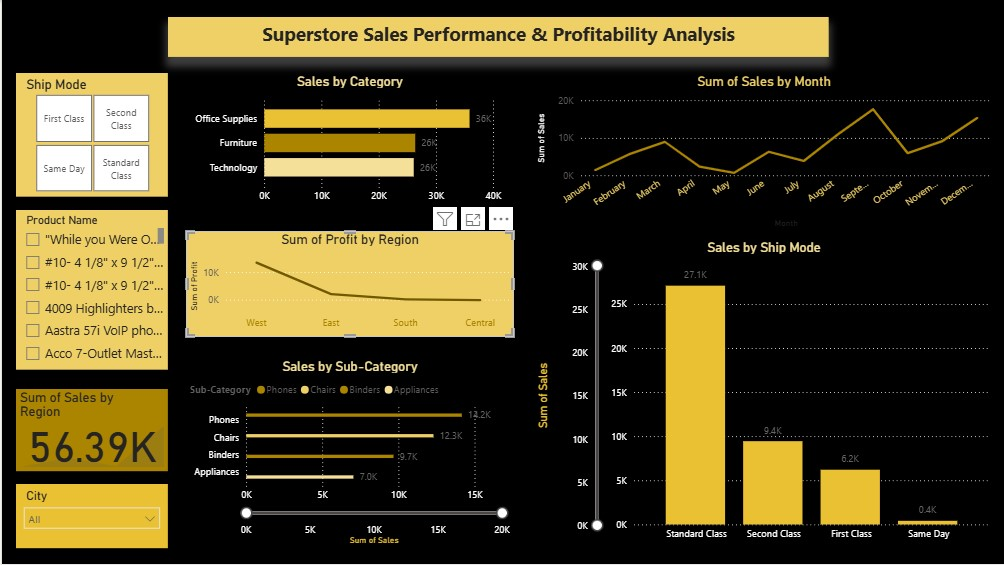

The page's visual inventory and layout, read from the dashboard file:
{"tool":"powerbi","page":{"name":"Page 1","canvas":[1280,720],"ordinal":0},"visuals":[{"type":"clusteredBarChart","title":"Sales by Category","fields":{"Category":["Sheet1.Category"],"Y":["Sum(Sheet1.Sales)"]},"box":[235,93.3,419,175],"z":0},{"type":"clusteredBarChart","title":"Sales by Sub-Category","fields":{"Y":["Sum(Sheet1.Sales)"],"Series":["Sheet1.Sub-Category"],"Category":["Sheet1.Sub-Category"]},"box":[235,457.3,419,242.7],"z":1000},{"type":"clusteredColumnChart","title":"Sales by Ship Mode","fields":{"Category":["Sheet1.Ship Mode"],"Y":["Sum(Sheet1.Sales)"]},"box":[678.3,305.3,590.2,394.7],"z":2000},{"type":"lineChart","fields":{"Category":["Sheet1.Order Date.Variation.Date Hierarchy.Month"],"Y":["Sum(Sheet1.Sales)"]},"box":[678.3,93.3,590.2,201.8],"z":3000},{"type":"slicer","fields":{"Values":["Sheet1.Ship Mode"]},"box":[17.9,93.3,194.2,158.4],"z":4000},{"type":"slicer","fields":{"Values":["Sheet1.City"]},"box":[17.9,618.3,194.2,81.8],"z":5000},{"type":"kpi","fields":{"Indicator":["Sum(Sheet1.Sales)"],"TrendLine":["Sheet1.Region"]},"box":[17.9,496.9,194.2,104.8],"z":6000},{"type":"slicer","fields":{"Values":["Sheet1.Product Name"]},"box":[17.9,268.3,194.2,204.4],"z":7000},{"type":"lineChart","fields":{"Y":["Sum(Sheet1.Profit)"],"Category":["Sheet1.Region"]},"box":[235,295.1,419,135.4],"z":8000},{"type":"textbox","box":[212.1,21.7,844.4,51.1],"z":9000}]}

Visuals, with their boxes in screenshot pixels (x1, y1, x2, y2), scaled from the page's 1280x720 canvas onto the 1004x565 screenshot:
"Sales by Category" clusteredBarChart: x1=184 y1=73 x2=513 y2=211
"Sales by Sub-Category" clusteredBarChart: x1=184 y1=359 x2=513 y2=549
"Sales by Ship Mode" clusteredColumnChart: x1=532 y1=240 x2=995 y2=549
lineChart - Sheet1.Order Date.Variation.Date Hierarchy.Month x Sum(Sheet1.Sales): x1=532 y1=73 x2=995 y2=232
slicer - Sheet1.Ship Mode: x1=14 y1=73 x2=166 y2=198
slicer - Sheet1.City: x1=14 y1=485 x2=166 y2=549
kpi - Sum(Sheet1.Sales) x Sheet1.Region: x1=14 y1=390 x2=166 y2=472
slicer - Sheet1.Product Name: x1=14 y1=211 x2=166 y2=371
lineChart - Sum(Sheet1.Profit) x Sheet1.Region: x1=184 y1=232 x2=513 y2=338
textbox: x1=166 y1=17 x2=829 y2=57
